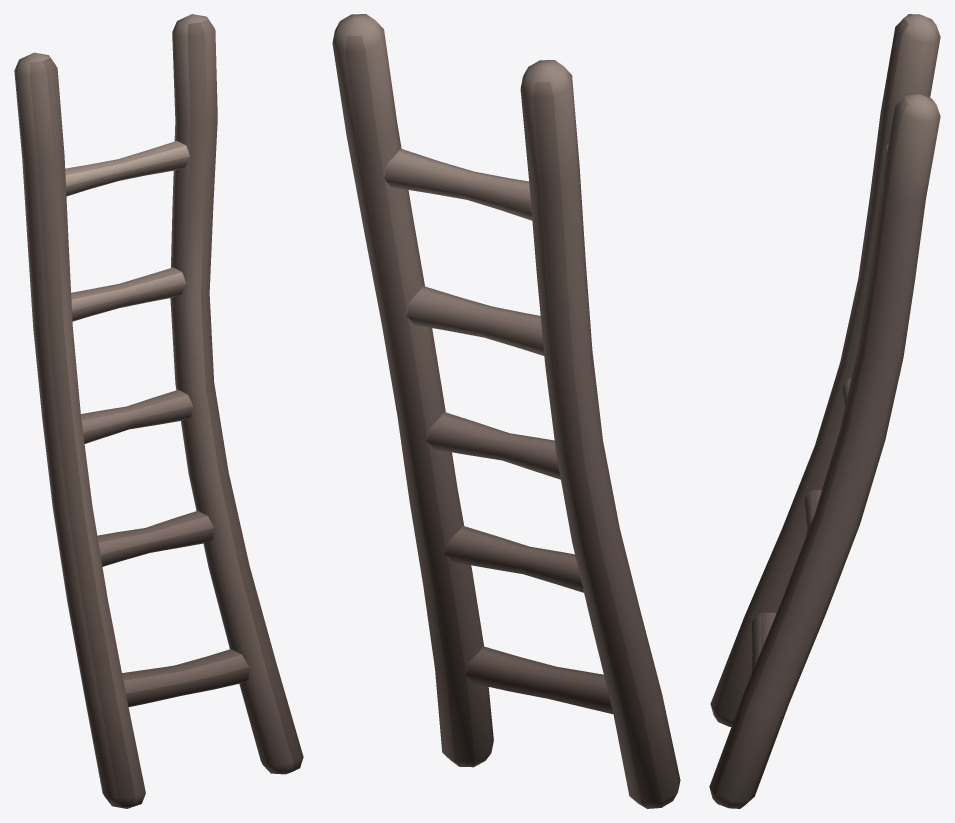
Rendered from elf_ladder.fbx.
The picture shows the model from 3 angles, left to right: view 1: azimuth 30°, elevation 25°; view 2: azimuth 150°, elevation 25°; view 3: azimuth 270°, elevation 25°; orthographic projection. The views are drawn at different scales.
Visible parts, largest first — view 1: elf_ladder; view 2: elf_ladder; view 3: elf_ladder.
Boxes of the visible parts, x1,y1,x2,y2 form: elf_ladder: (14,14,303,808); elf_ladder: (332,14,680,808); elf_ladder: (709,14,940,808).
Size of the model in its own units: 92.54 by 306 by 90.22.
